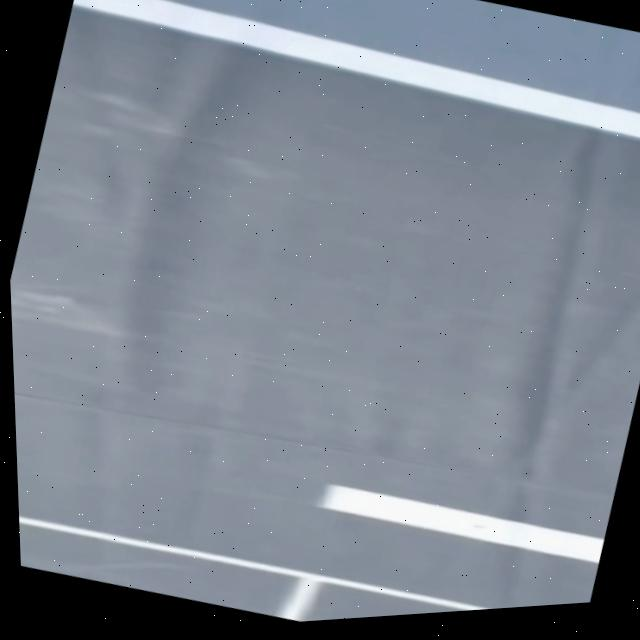center: (321, 484, 604, 561)
left: (73, 0, 640, 137)
